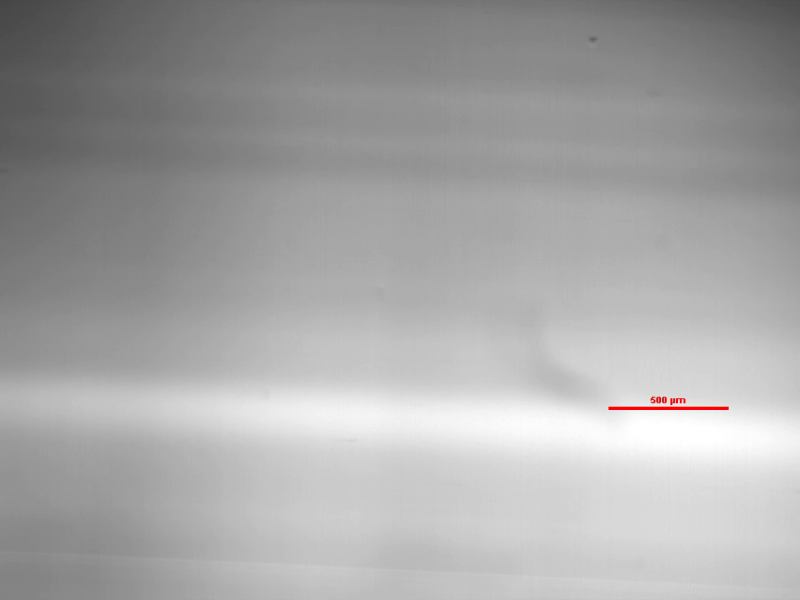bead: (586, 32, 601, 51)
fiber: (517, 297, 621, 423)
